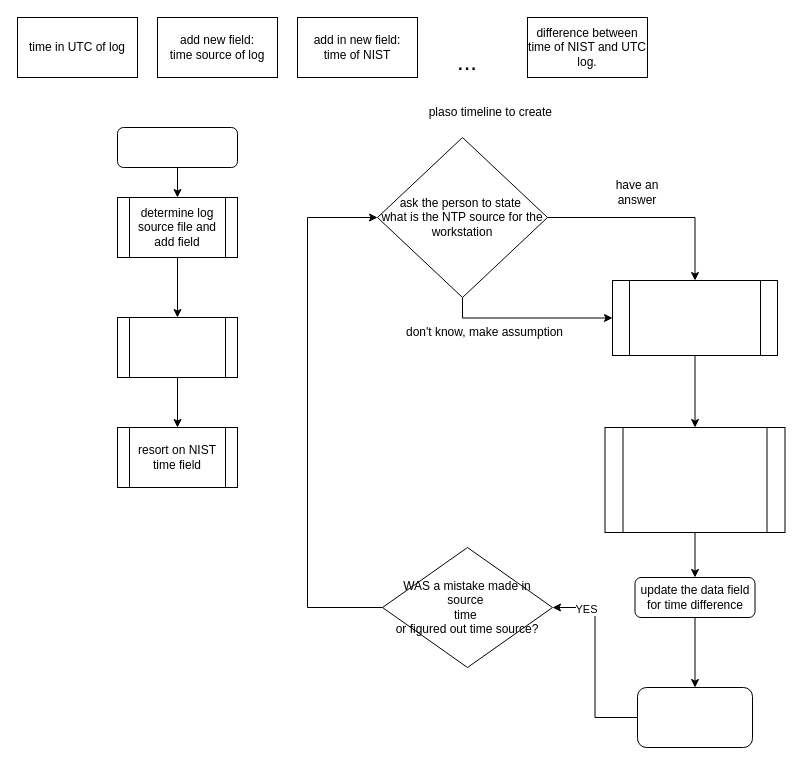
The diagram is 803 pixels wide and 765 high, and some of its shapes have lost their labels. The box of each missing label's shape, as (x1, y1, x2, y2) in pixels:
AI computes difference at that moment in time between source NTP and NIST: (604, 426, 785, 532)
AI determines difference in time sync and add that field: (116, 316, 238, 378)
end up with NTP field answered: (612, 280, 778, 356)
log is being parsed: (116, 126, 238, 168)
resort on the NIST time field in UTC: (636, 686, 752, 748)
